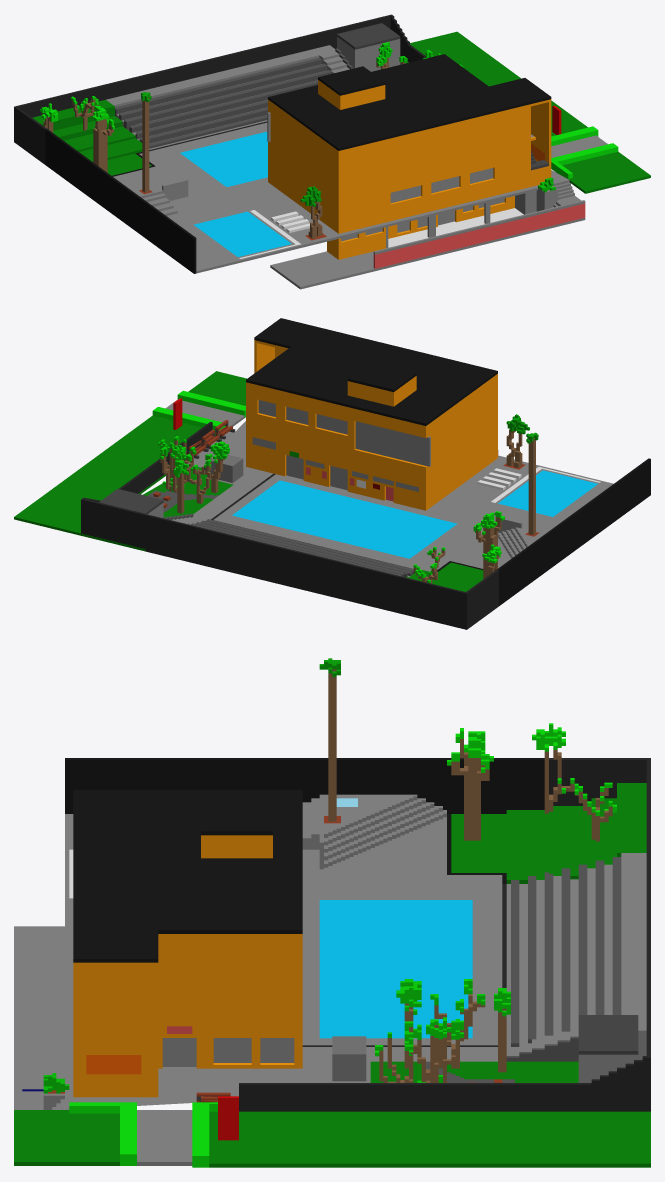
Rendered from Bloque 2.fbx.
The picture shows the model from 3 angles, top to bottom: view 1: azimuth 30°, elevation 25°; view 2: azimuth 150°, elevation 25°; view 3: azimuth 270°, elevation 25°; orthographic projection. The views are drawn at different scales.
Parts seen in each view (by area): view 1: Bloque 2 final-5, Bloque 2 final-4, Bloque 2 final-0, Bloque 2 final-3, Bloque 2 final-1, Bloque 2 final-2; view 2: Bloque 2 final-5, Bloque 2 final-4, Bloque 2 final-0, Bloque 2 final-3, Bloque 2 final-1, Bloque 2 final-2; view 3: Bloque 2 final-5, Bloque 2 final-4, Bloque 2 final-3, Bloque 2 final-0, Bloque 2 final-1, Bloque 2 final-2.
Part boxes in pixels (left/top/right/bottom): Bloque 2 final-5: left=135, top=42, right=585, bottom=289; Bloque 2 final-4: left=45, top=92, right=284, bottom=273; Bloque 2 final-0: left=105, top=15, right=408, bottom=135; Bloque 2 final-3: left=421, top=54, right=650, bottom=193; Bloque 2 final-1: left=14, top=84, right=135, bottom=164; Bloque 2 final-2: left=390, top=14, right=488, bottom=62; Bloque 2 final-5: left=143, top=318, right=558, bottom=577; Bloque 2 final-4: left=409, top=432, right=650, bottom=605; Bloque 2 final-0: left=83, top=488, right=404, bottom=607; Bloque 2 final-3: left=46, top=371, right=246, bottom=501; Bloque 2 final-1: left=374, top=544, right=498, bottom=629; Bloque 2 final-2: left=14, top=493, right=100, bottom=536; Bloque 2 final-5: left=14, top=790, right=548, bottom=1109; Bloque 2 final-4: left=65, top=658, right=548, bottom=883; Bloque 2 final-3: left=14, top=1083, right=548, bottom=1167; Bloque 2 final-0: left=549, top=830, right=650, bottom=1082; Bloque 2 final-1: left=549, top=723, right=650, bottom=879; Bloque 2 final-2: left=549, top=1056, right=650, bottom=1167.
Size of the model in its own units: 1960 by 580 by 1500.
6 materials, 6 textured.
